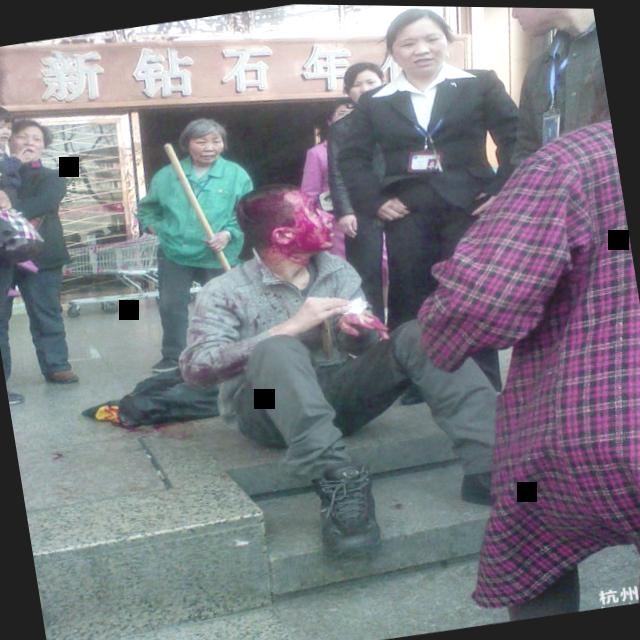Fall-Detected: (131, 146, 539, 582)
